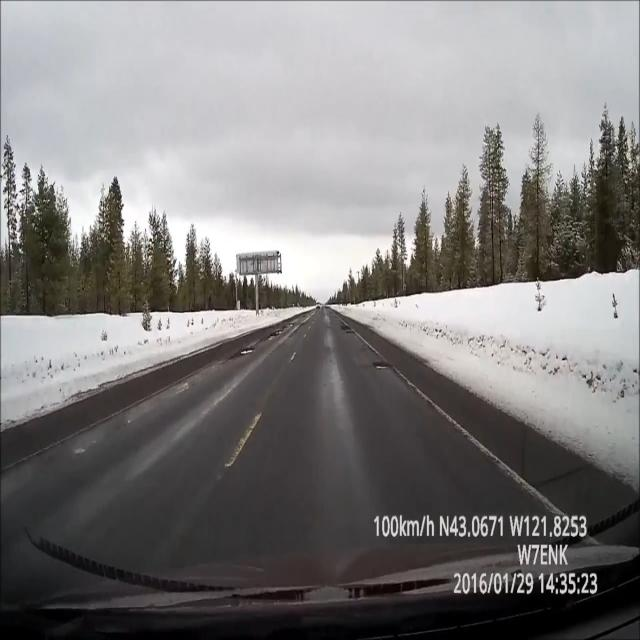Pothole: (334, 307, 359, 344), (231, 346, 255, 362), (374, 360, 394, 372)
